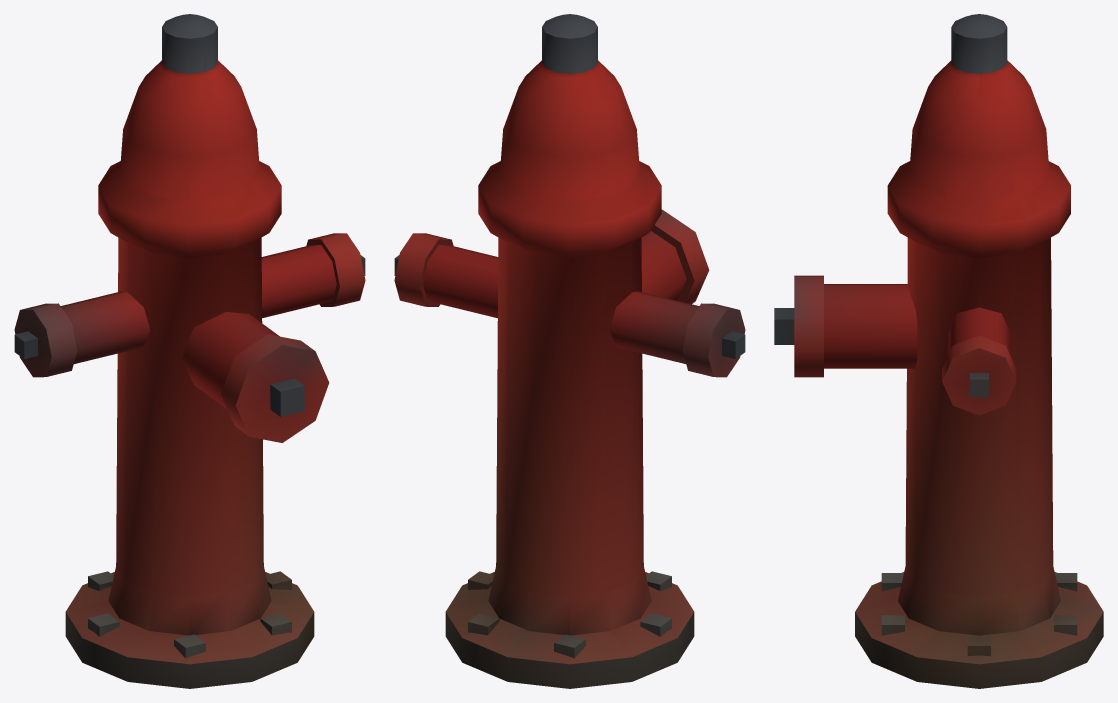
The model's file is hydrant.glb.
The picture shows the model from 3 angles, left to right: view 1: azimuth 30°, elevation 25°; view 2: azimuth 150°, elevation 25°; view 3: azimuth 270°, elevation 25°; orthographic projection.
Parts seen in each view (by area): view 1: Hydrant; view 2: Hydrant; view 3: Hydrant.
Part boxes in pixels (<box>): Hydrant: <box>14,14,365,688</box>; Hydrant: <box>394,14,745,688</box>; Hydrant: <box>774,14,1103,688</box>.
Bounding box in the file's own units: 0.5068 × 0.875 × 0.424.
